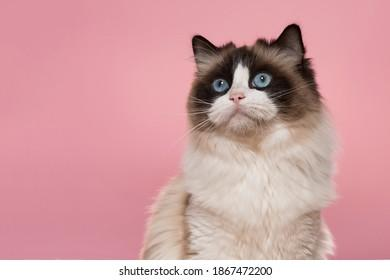ragdoll: (179, 15, 322, 161)
